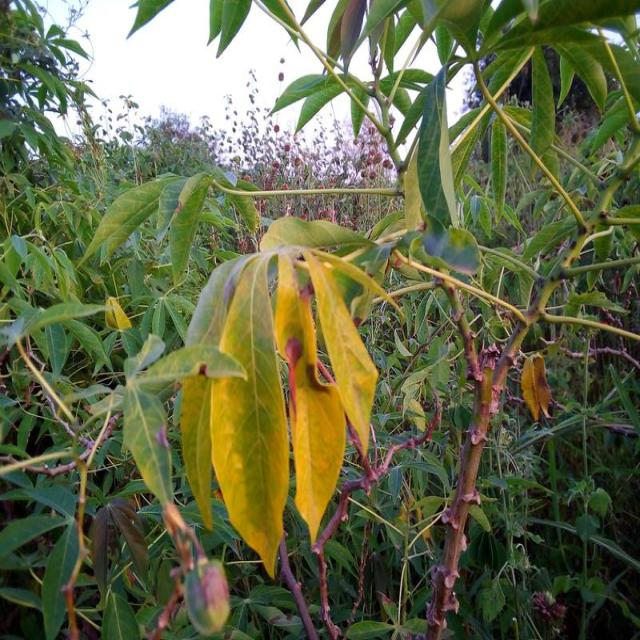cassava leaf: (209, 252, 290, 579)
